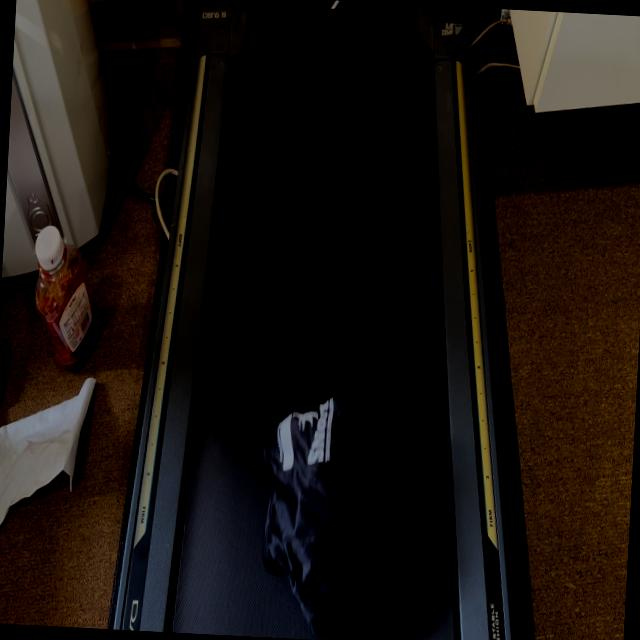Trash: (250, 373, 392, 638)
